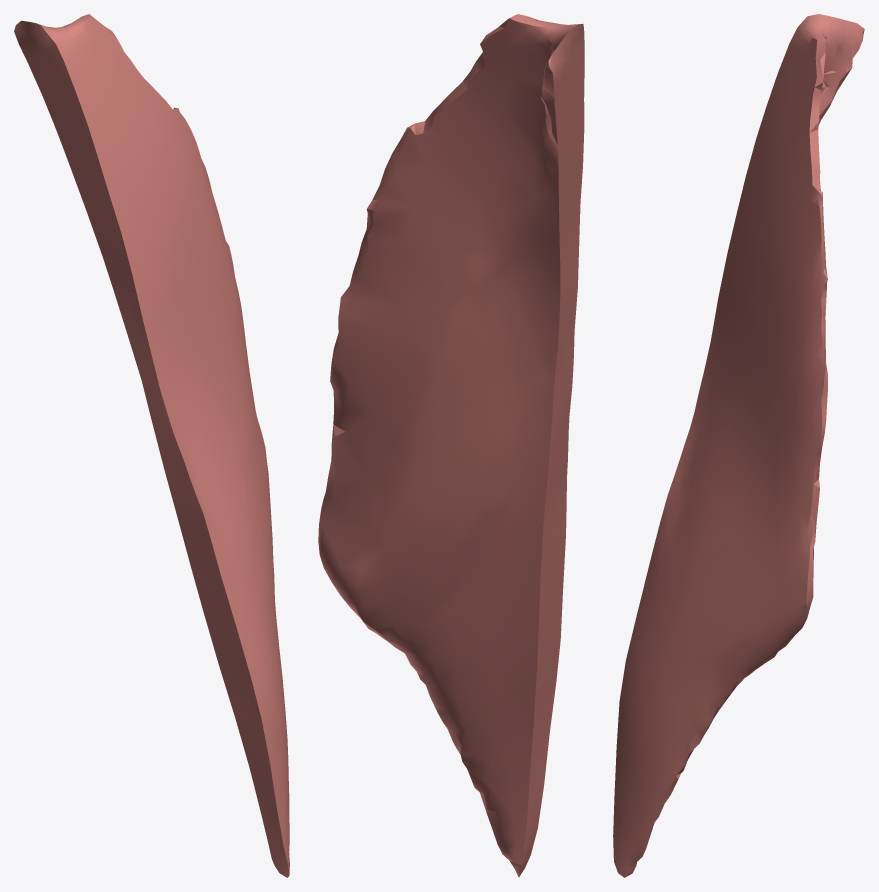
Rendered from fma38641_mm1852m.glb.
3 renders of one model, left to right at view 1: azimuth 30°, elevation 25°; view 2: azimuth 150°, elevation 25°; view 3: azimuth 270°, elevation 25°, orthographic. The views are drawn at different scales.
Visible parts, largest first — view 1: FMA38641_MM1852M; view 2: FMA38641_MM1852M; view 3: FMA38641_MM1852M.
Part boxes in pixels (left/top/right/bottom): FMA38641_MM1852M: left=14, top=14, right=289, bottom=877; FMA38641_MM1852M: left=318, top=14, right=584, bottom=877; FMA38641_MM1852M: left=613, top=14, right=864, bottom=877.
Size of the model in its own units: 0.0257 by 0.0894 by 0.0257.
